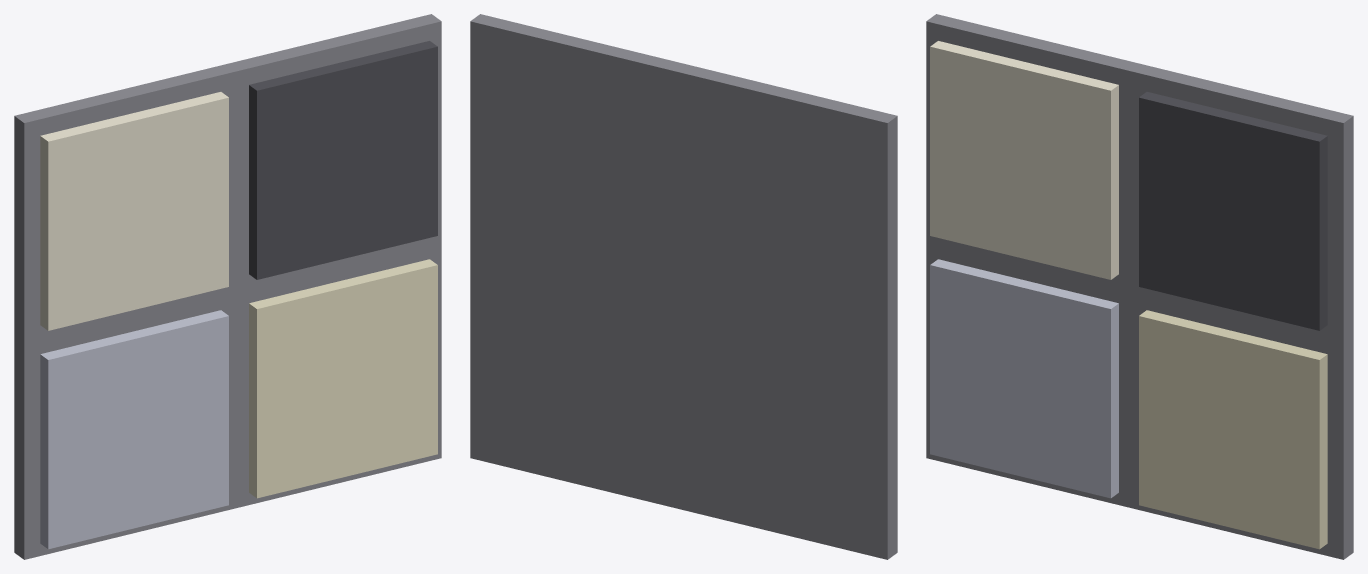
Rendered from 01_texture_remaster_overlay_1.glb.
3 views of the same model, side by side, from view 1: azimuth 30°, elevation 25°; view 2: azimuth 150°, elevation 25°; view 3: azimuth 330°, elevation 25° (orthographic).
Visible parts, largest first — view 1: uv_reference_tile, atlas_quadrant_c, atlas_quadrant_d, atlas_quadrant_b, atlas_quadrant_a; view 2: uv_reference_tile; view 3: uv_reference_tile, atlas_quadrant_c, atlas_quadrant_d, atlas_quadrant_a, atlas_quadrant_b.
Boxes of the visible parts, x1,y1,x2,y2 form: uv_reference_tile: (14,14,441,559); atlas_quadrant_c: (40,92,228,330); atlas_quadrant_d: (249,41,437,279); atlas_quadrant_b: (249,259,437,498); atlas_quadrant_a: (40,310,228,549); uv_reference_tile: (470,14,897,559); uv_reference_tile: (926,14,1353,559); atlas_quadrant_c: (930,41,1118,279); atlas_quadrant_d: (1139,92,1327,330); atlas_quadrant_a: (930,259,1118,498); atlas_quadrant_b: (1139,310,1327,549).
Size of the model in its own units: 1.2 by 1.2 by 0.1.
